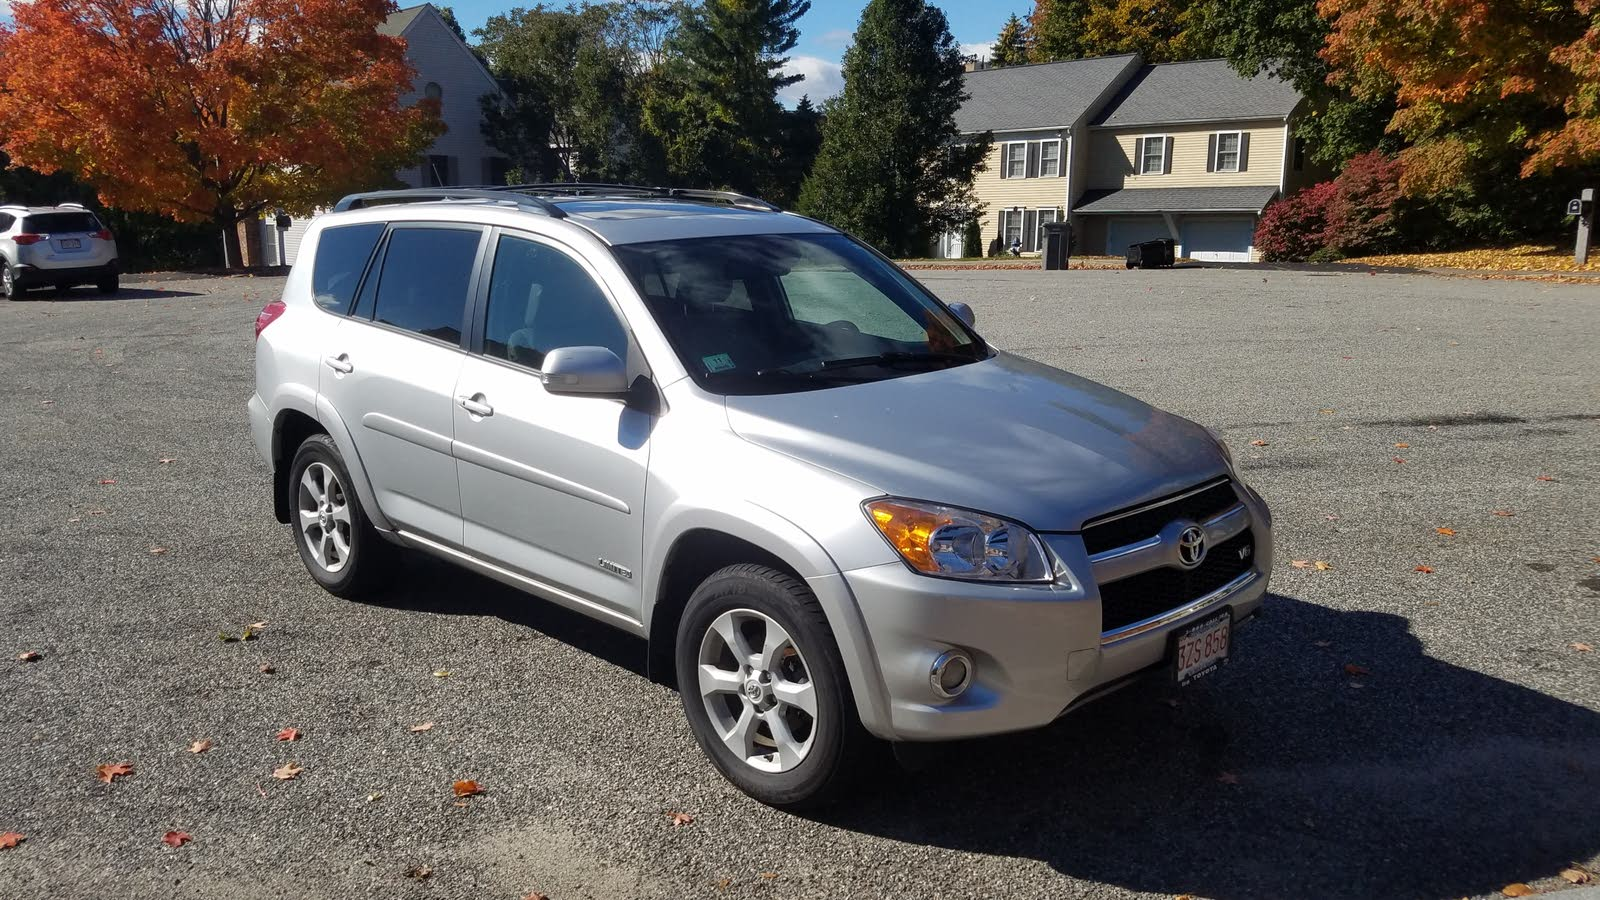Toyota RAV-4: (247, 180, 1273, 801)
